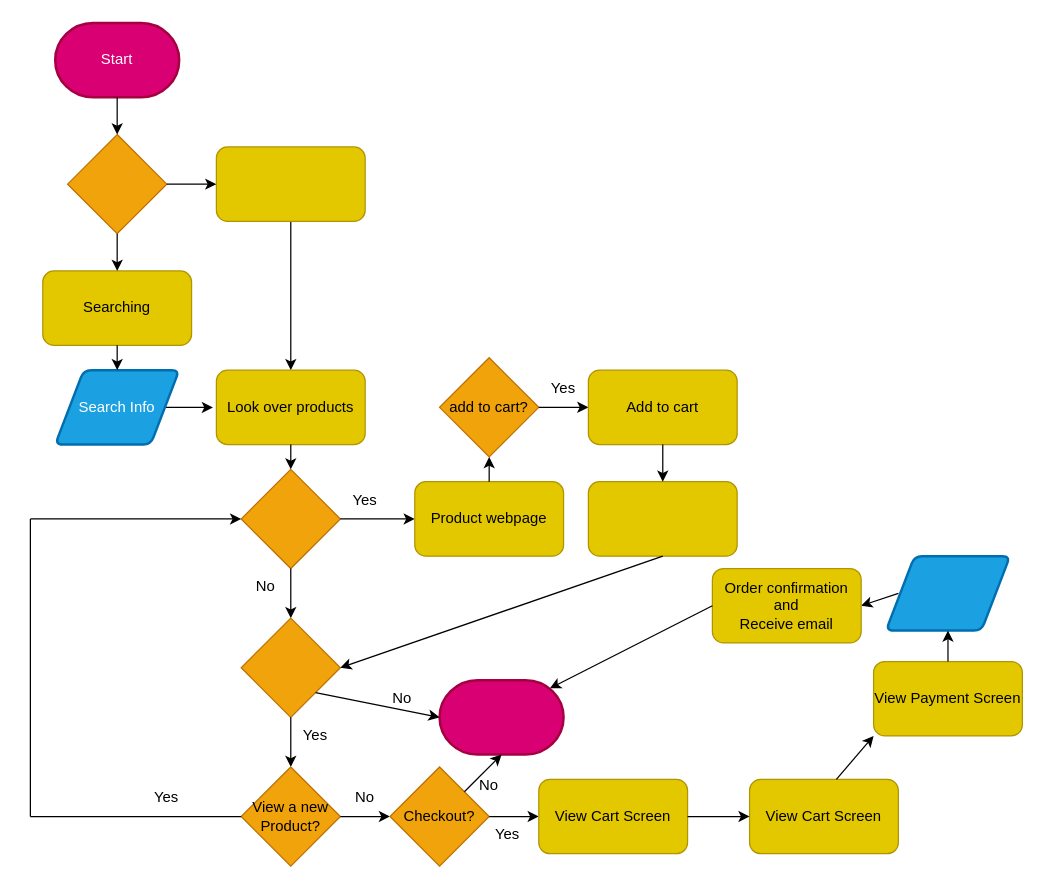
Image size: 1044x888. Some labels were removed from this diagram. Each missing label, with the centre of its shape:
"Added to Cart Confirmation" belongs at point 662,518.
"Continue Shopping?" belongs at point 290,667.
"End" belongs at point 501,716.
"Exploring" belongs at point 290,183.
"Payment Info" belongs at point 947,592.
"Searching/ Exploring" belongs at point 116,183.
"View specific product" belongs at point 290,518.
